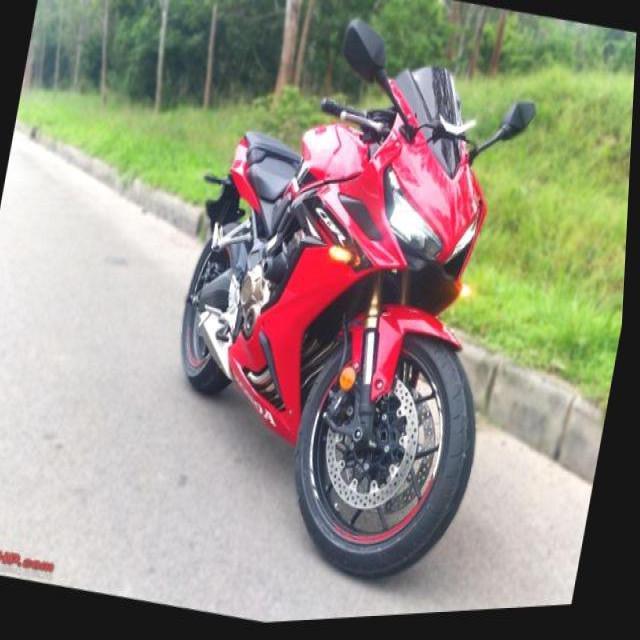CBR650R: (144, 12, 547, 617)
